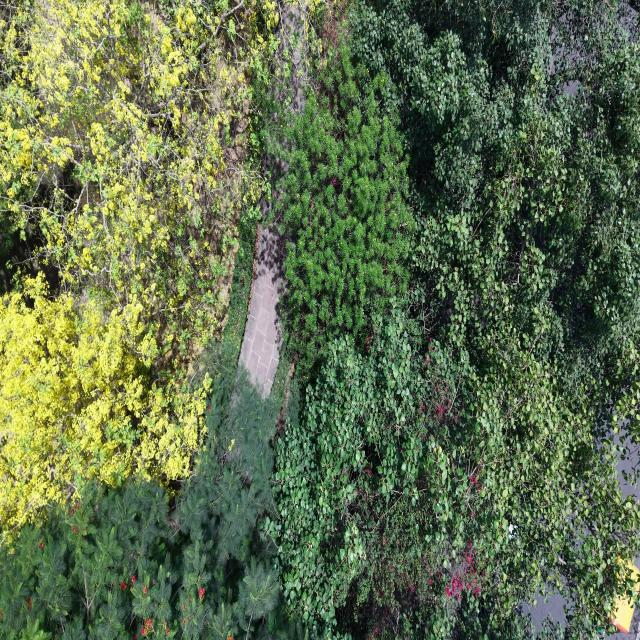PATHWAYS: (239, 225, 285, 397), (240, 226, 284, 397)
VEGETATION_TREE: (0, 0, 639, 639), (271, 1, 639, 637), (0, 1, 276, 540), (0, 376, 304, 639), (276, 59, 415, 376)
